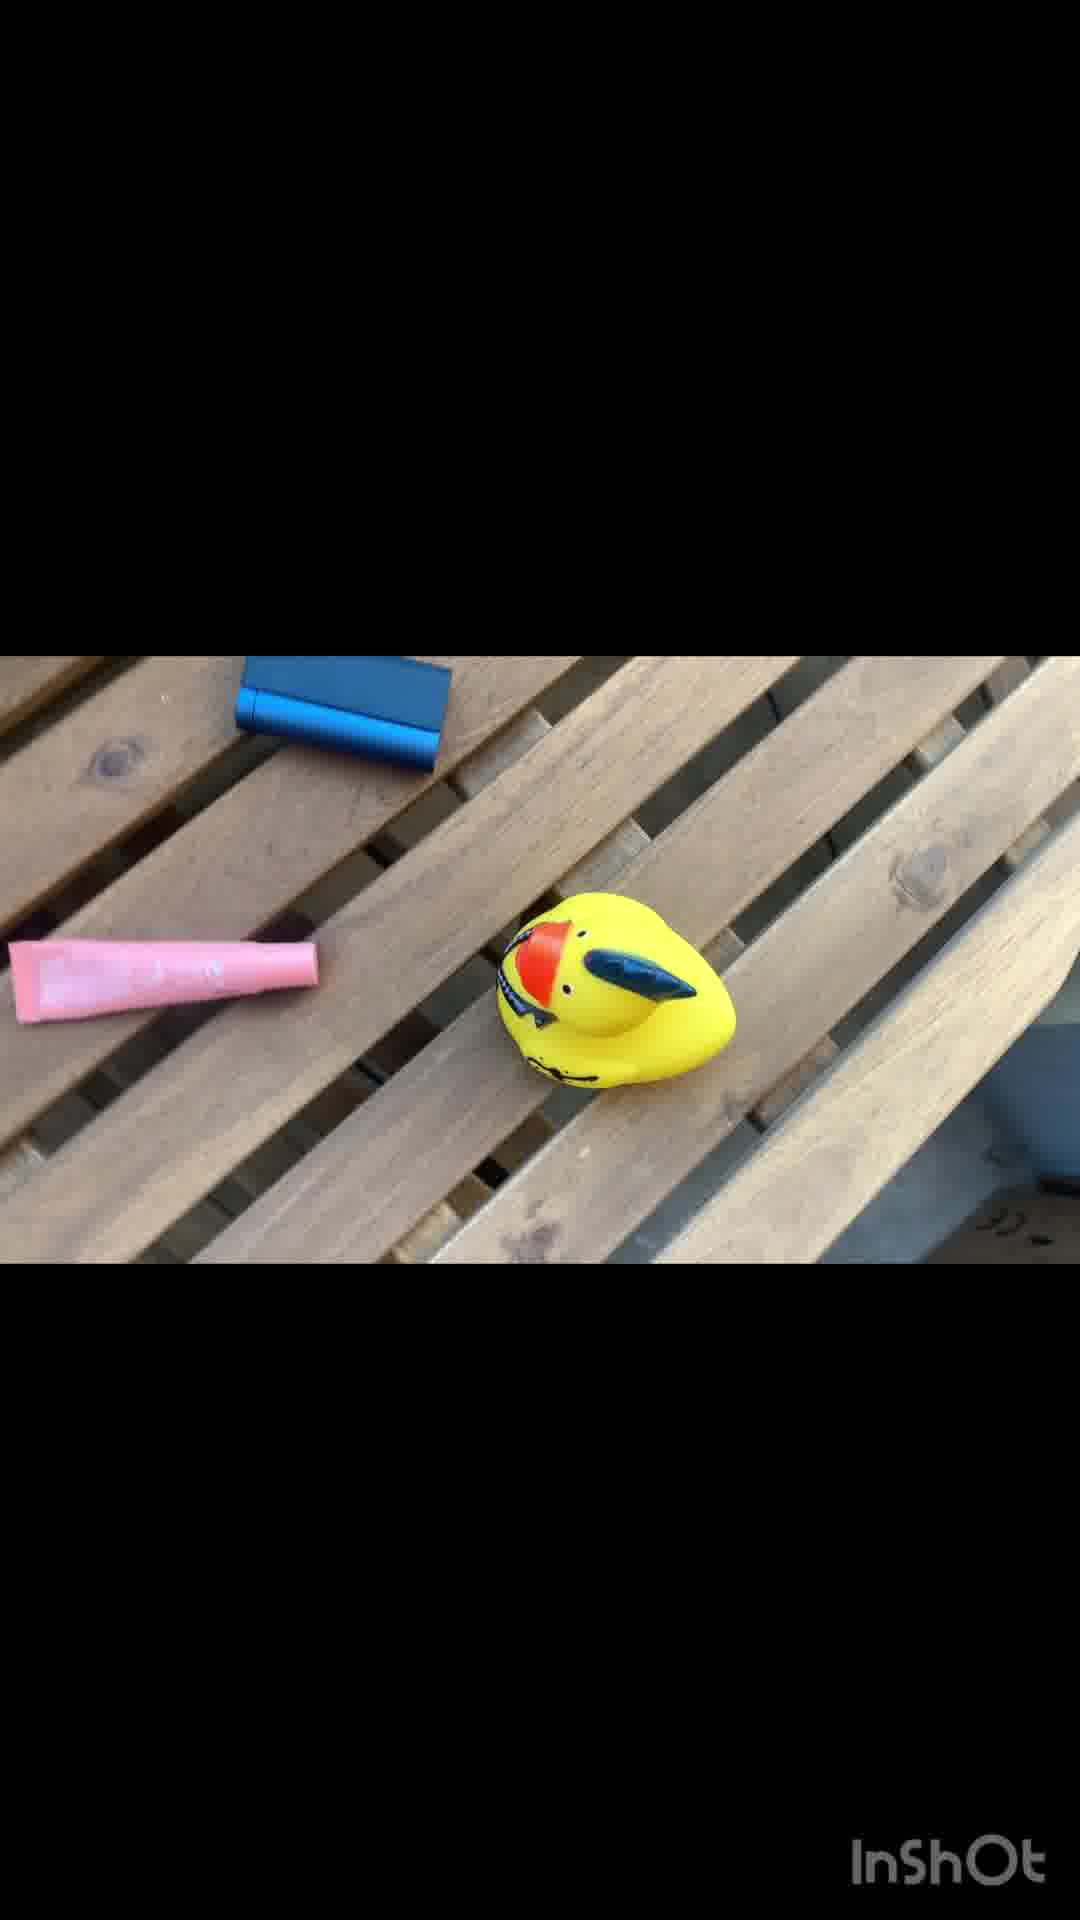duck: (473, 882, 774, 1087)
glo: (215, 651, 469, 769)
lip balm: (3, 928, 313, 1036)
